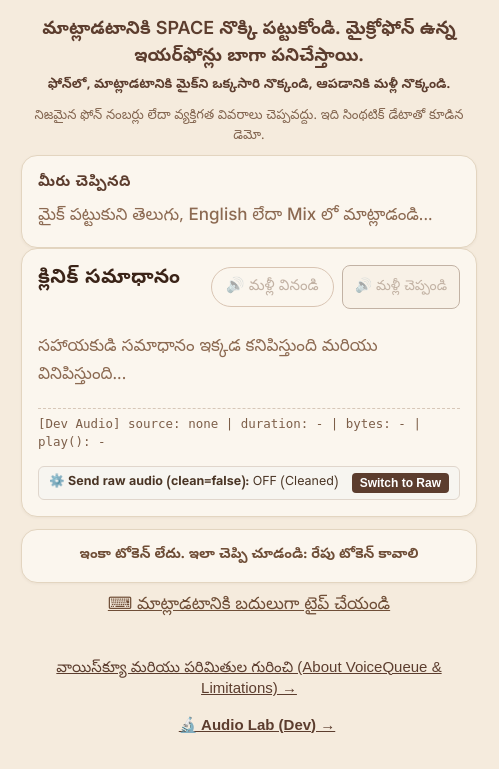
Test: Patient App Component Tests (Vitest + RTL) › 22. Telugu reply with పదిహేడు translates to number 17 (never number 10)
(page scrolled)
Click the button "⌨ మాట్లాడటానికి బదులుగా టైప్ చేయండి" at point(249, 605), box [100, 583, 398, 627]
(page scrolled)
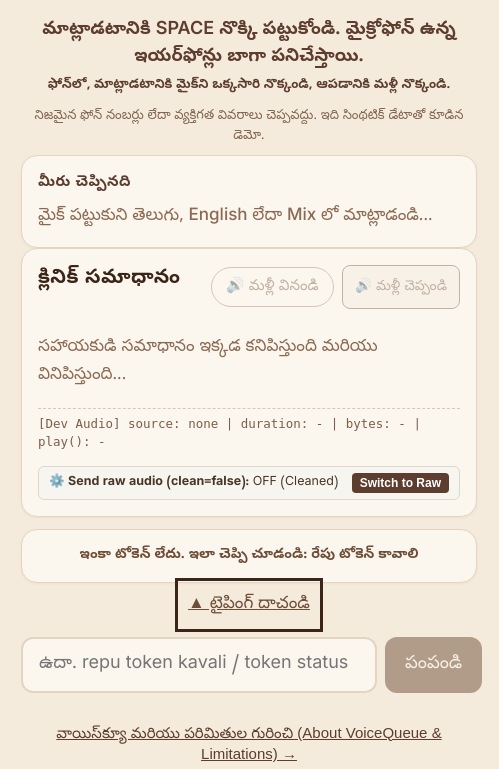
Type "repu token kavali" into the field at point(199, 665), box [21, 637, 377, 693]
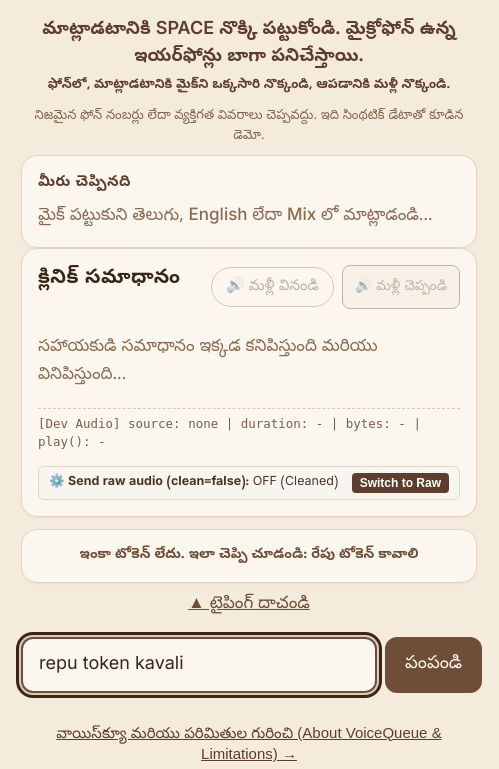
Click the button "పంపండి" at point(434, 665), box [385, 637, 482, 693]
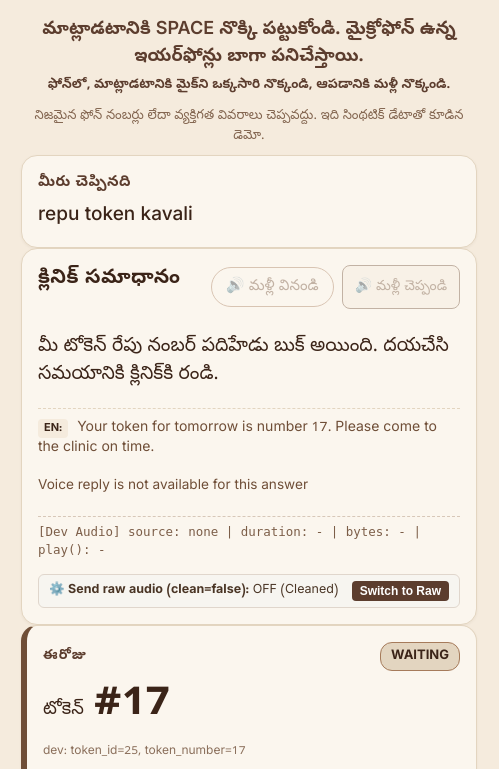
Expected: the text "Your token for tomorrow is number 17" is shown, [38, 419, 437, 458]
